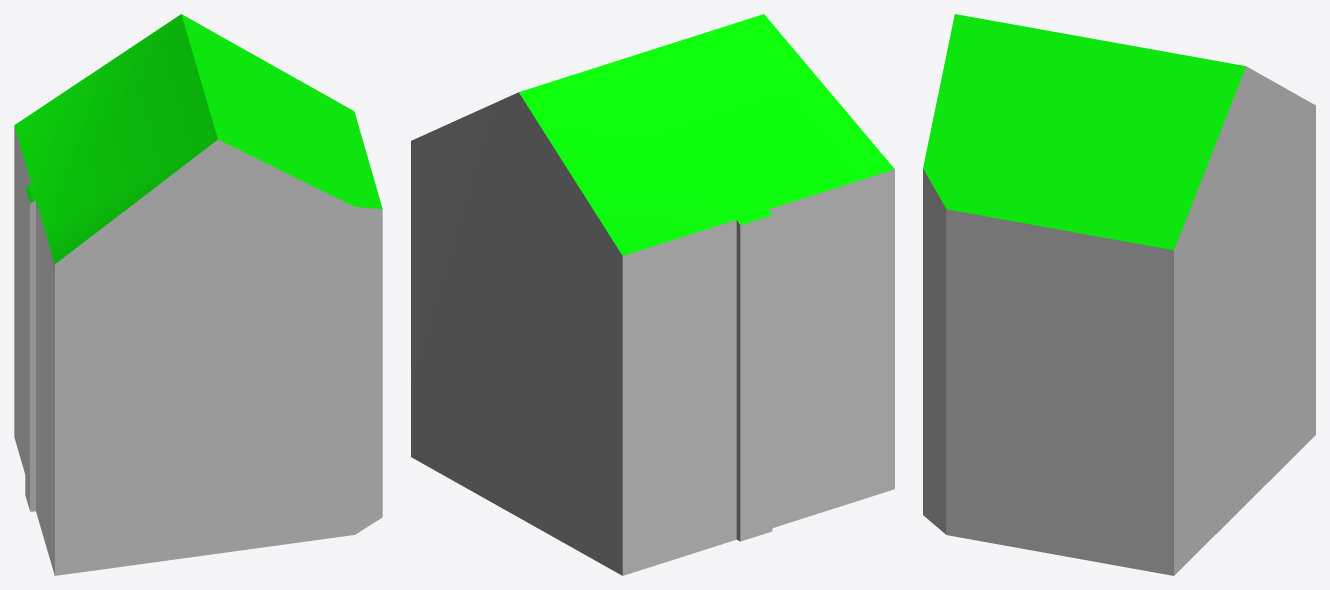
The model's file is DEHB01ALn0001Nn4.gltf.
The picture shows the model from 3 angles, left to right: view 1: azimuth 30°, elevation 25°; view 2: azimuth 150°, elevation 25°; view 3: azimuth 270°, elevation 25°; orthographic projection. The views are drawn at different scales.
Parts seen in each view (by area): view 1: Z_UP; view 2: Z_UP; view 3: Z_UP.
Boxes of the visible parts, bbox=[...] form: Z_UP: bbox=[14, 14, 382, 575]; Z_UP: bbox=[411, 14, 894, 575]; Z_UP: bbox=[923, 14, 1315, 575].
Bounding box in the file's own units: 12.12 × 12.45 × 10.12.
